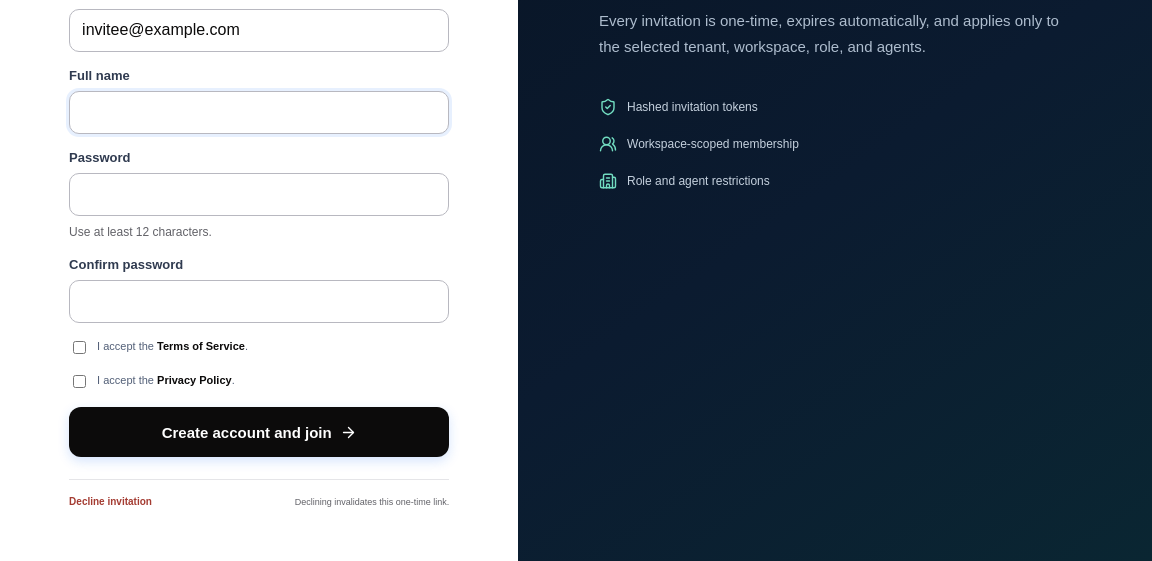
Test: WorkspaceInvitationPage › invalidates the local token after declining the invitation
(page scrolled)
Click the button "Decline invitation" at (110, 502), box [69,496,152,507]
(page scrolled)
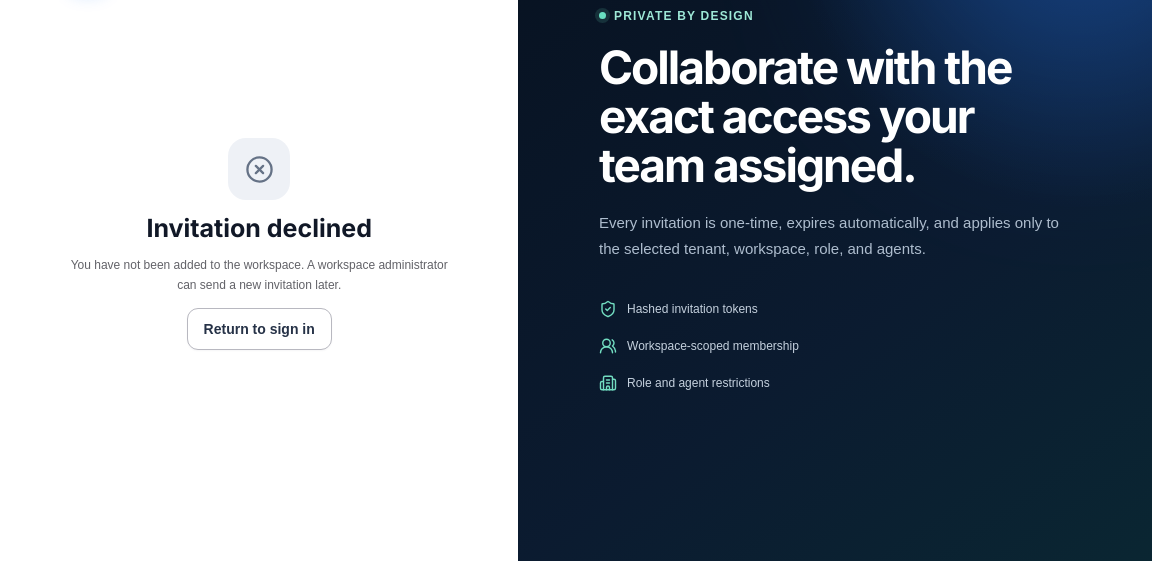
expect the heading "Invitation declined" is shown: met, box [146,213,372,243]
